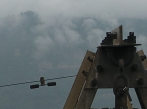damper: (28, 76, 56, 89)
